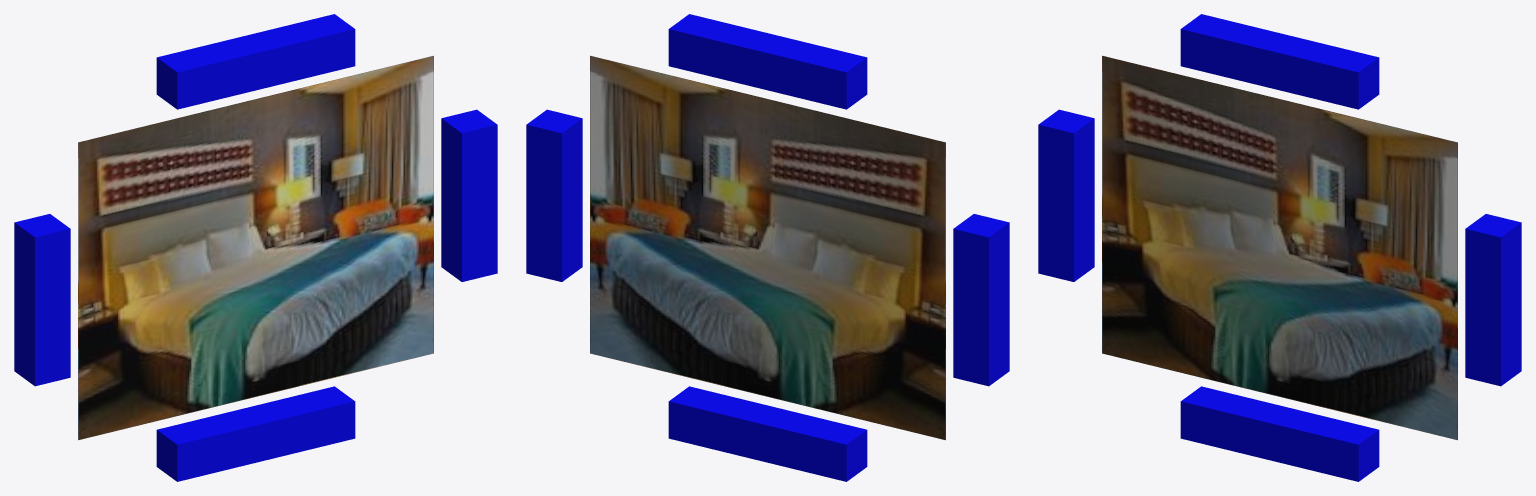
3 renders of one model, left to right at view 1: azimuth 30°, elevation 25°; view 2: azimuth 150°, elevation 25°; view 3: azimuth 330°, elevation 25°, orthographic.
Visible parts, largest first — view 1: PhotoPlane; view 2: PhotoPlane; view 3: PhotoPlane.
Part boxes in pixels (x1,y1,x2,y2): PhotoPlane: (14, 14, 497, 481); PhotoPlane: (526, 14, 1009, 481); PhotoPlane: (1038, 14, 1521, 481).
Bounding box in the file's own units: 6.5 × 5.5 × 0.5.
2 materials, 1 textured.
